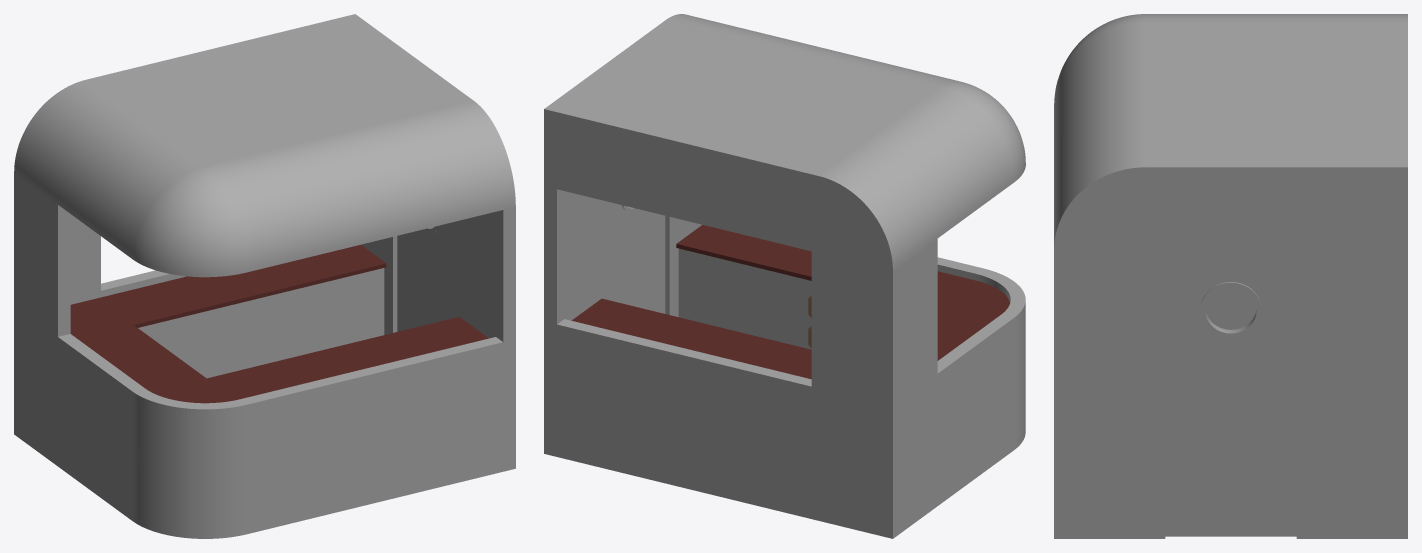
File: Kitchen Place Holder (1).fbx
The picture shows the model from 3 angles, left to right: view 1: azimuth 30°, elevation 25°; view 2: azimuth 150°, elevation 25°; view 3: azimuth 270°, elevation 25°; orthographic projection. The views are drawn at different scales.
Visible parts, largest first — view 1: Kitchen, Roof, Door; view 2: Kitchen, Roof, Door; view 3: Roof, Kitchen, Door.
Boxes of the visible parts, box(x1,y1,x2,y2) form: Kitchen: box(14, 173, 515, 538); Roof: box(14, 14, 515, 277); Door: box(397, 222, 452, 331); Kitchen: box(544, 186, 1025, 538); Roof: box(544, 14, 1025, 270); Door: box(608, 202, 665, 313); Roof: box(1054, 14, 1407, 250); Kitchen: box(1054, 250, 1407, 538); Door: box(1165, 262, 1296, 536).
Bounding box in the file's own units: 270 × 255 × 220.
